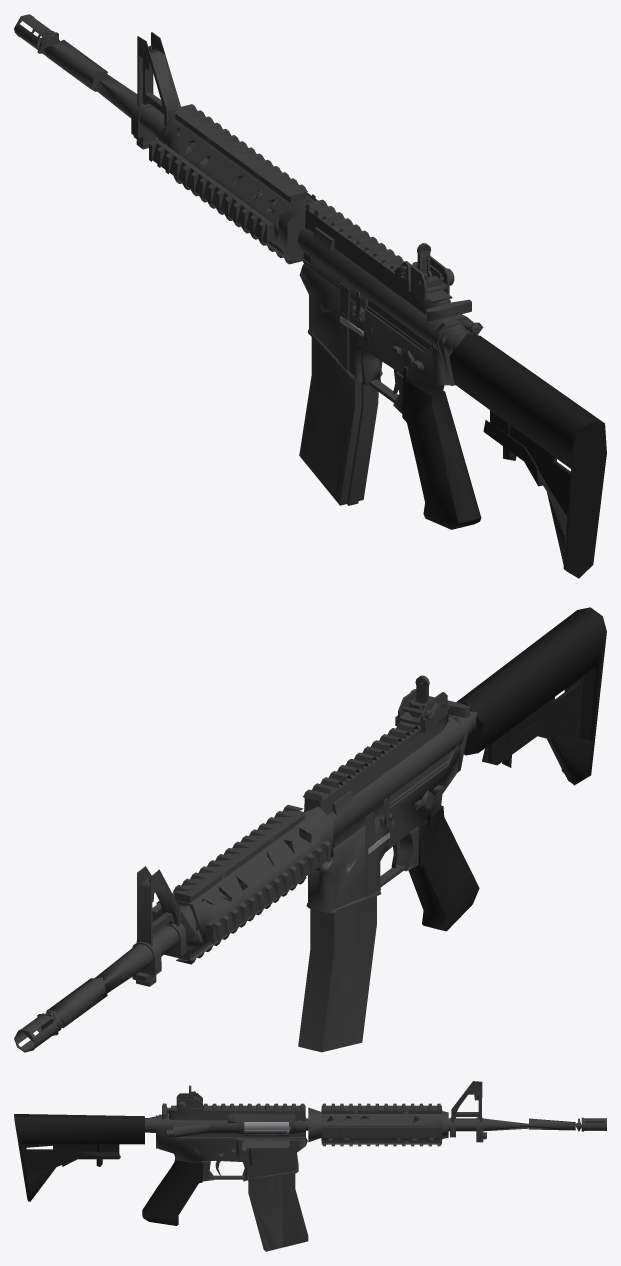
The picture shows the model from 3 angles, top to bottom: view 1: azimuth 30°, elevation 25°; view 2: azimuth 150°, elevation 25°; view 3: azimuth 270°, elevation 25°; orthographic projection. The views are drawn at different scales.
Parts seen in each view (by area): view 1: Base, Barrel, Stock, Magazine, Sight; view 2: Base, Barrel, Stock, Magazine, Sight; view 3: Base, Barrel, Stock, Magazine, Ejector_Lid, Sight, Ejector.
Part boxes in pixels (left/top/right/bottom): Base: left=297, top=199, right=483, bottom=529; Barrel: left=14, top=14, right=317, bottom=264; Stock: left=442, top=329, right=606, bottom=578; Magazine: left=299, top=320, right=378, bottom=505; Sight: left=396, top=243, right=449, bottom=300; Base: left=303, top=706, right=479, bottom=931; Barrel: left=14, top=805, right=333, bottom=1052; Stock: left=456, top=607, right=606, bottom=785; Magazine: left=298, top=896, right=376, bottom=1052; Sight: left=395, top=675, right=447, bottom=732; Base: left=142, top=1103, right=307, bottom=1225; Barrel: left=306, top=1081, right=606, bottom=1146; Stock: left=14, top=1114, right=156, bottom=1201; Magazine: left=248, top=1138, right=308, bottom=1251; Ejector_Lid: left=243, top=1134, right=289, bottom=1148; Sight: left=176, top=1085, right=202, bottom=1112; Ejector: left=244, top=1122, right=288, bottom=1129.
Bounding box in the file's own units: 0.0636 × 0.2659 × 0.8588.
1 material, 1 textured.
